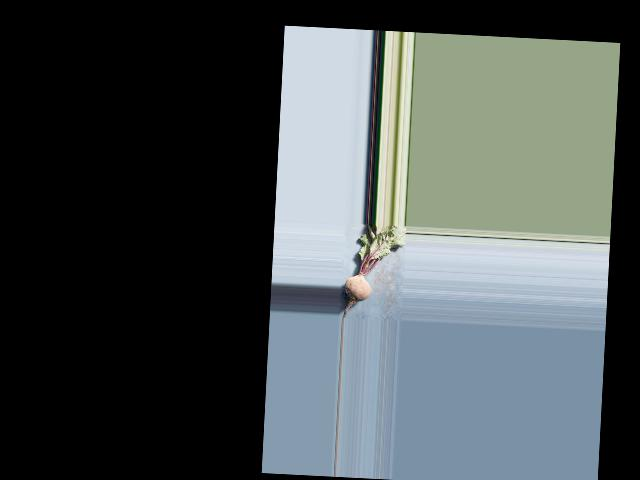beet: (342, 222, 406, 321)
